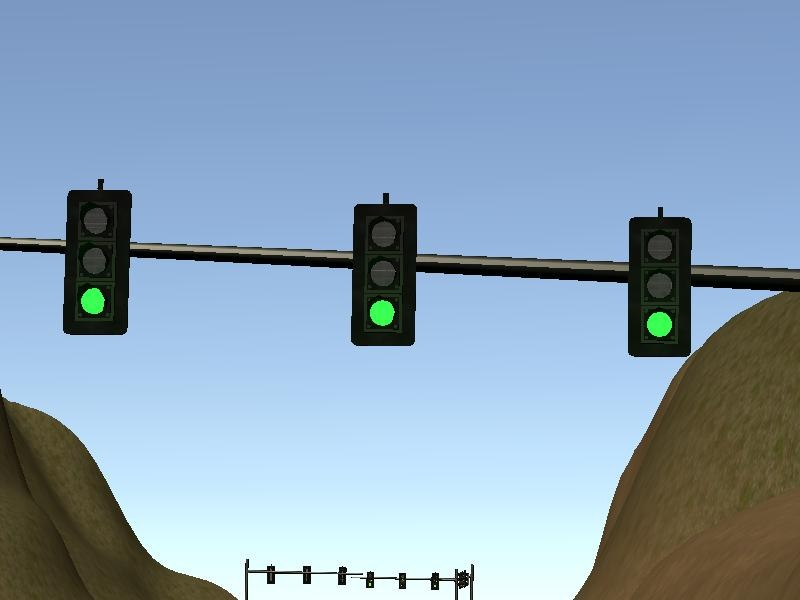traffic_light_green: (1, 174, 797, 358)
